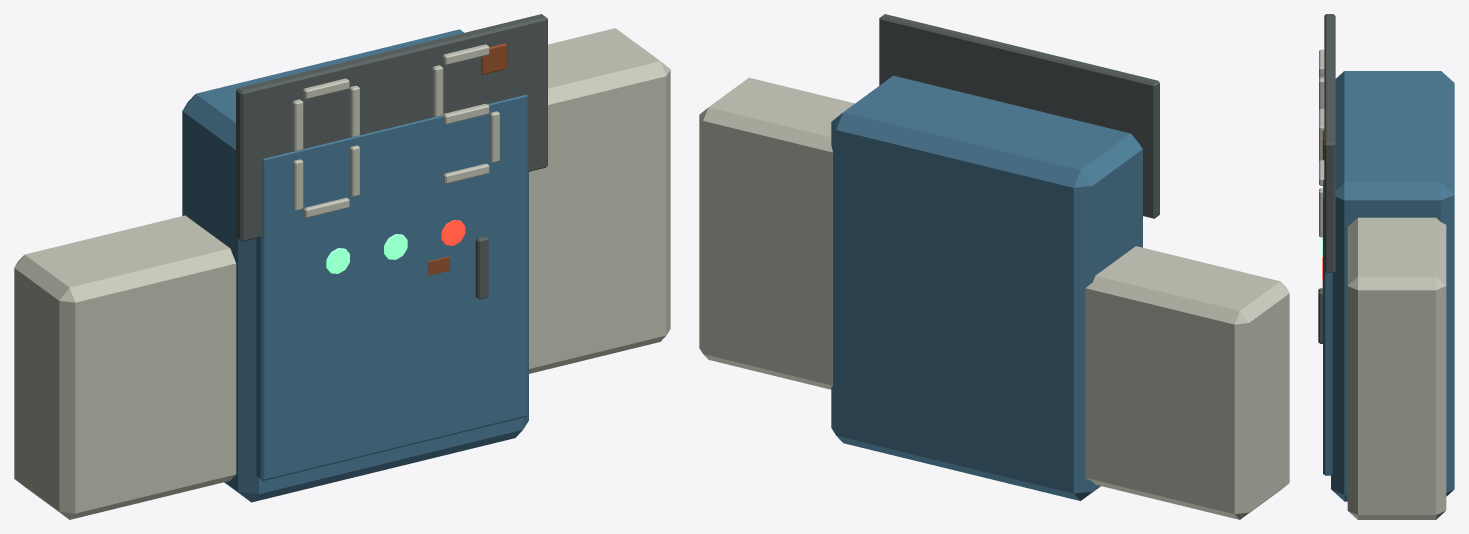
The model's file is runtime.glb.
3 views of the same model, side by side, from view 1: azimuth 30°, elevation 25°; view 2: azimuth 150°, elevation 25°; view 3: azimuth 270°, elevation 25° (orthographic). The views are drawn at different scales.
Visible parts, largest first — view 1: reactor-control-box-v05_nocol; view 2: reactor-control-box-v05_nocol; view 3: reactor-control-box-v05_nocol.
Part boxes in pixels (x1,y1,x2,y2): reactor-control-box-v05_nocol: [14, 14, 670, 519]; reactor-control-box-v05_nocol: [699, 14, 1289, 519]; reactor-control-box-v05_nocol: [1318, 14, 1454, 519].
Size of the model in its own units: 2.97 by 1.97 by 0.6615.
